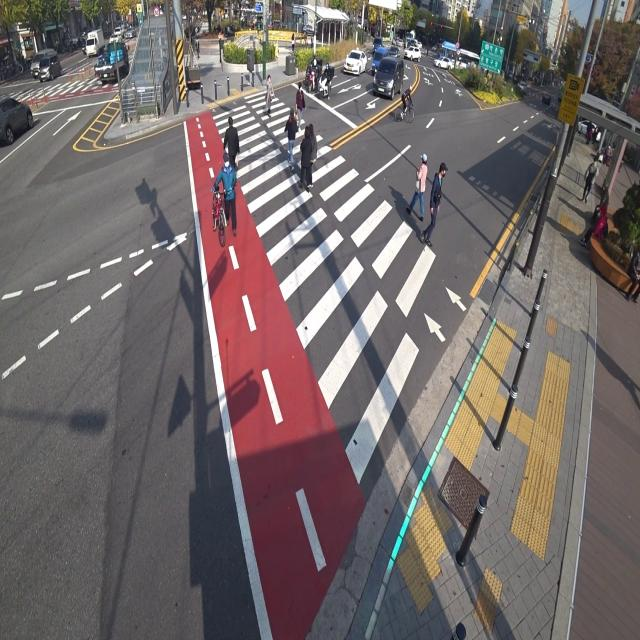Bus: (438, 39, 486, 77)
Car: (0, 85, 39, 152), (372, 62, 413, 103), (339, 36, 368, 80), (39, 49, 64, 86), (29, 48, 61, 76), (370, 39, 383, 72), (432, 58, 451, 72), (407, 45, 421, 63), (386, 43, 399, 60), (372, 34, 382, 50)
Motorcycle: (306, 54, 324, 97), (318, 60, 334, 100), (301, 52, 319, 76)
Truck: (96, 41, 131, 86), (82, 27, 104, 61)
